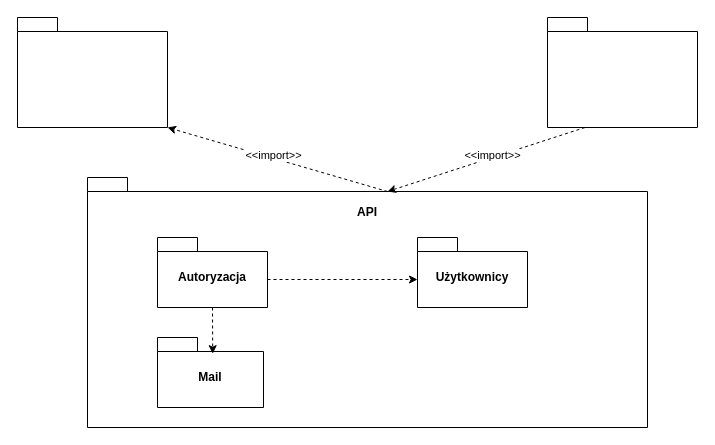
Some shapes in this 715 by 445 pixel diagram are drawn without their labels. The box of each missing label's shape, as (x1, y1, x2, y2) in pixels:
Baza Danych: (16, 16, 168, 128)
UI: (546, 16, 698, 128)
